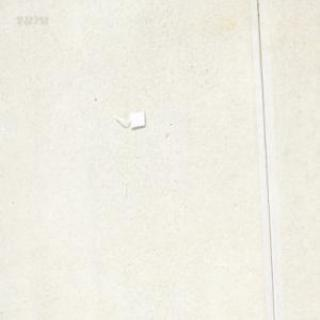LuggageTagtrack_idkeyframe: (112, 109, 146, 128)
